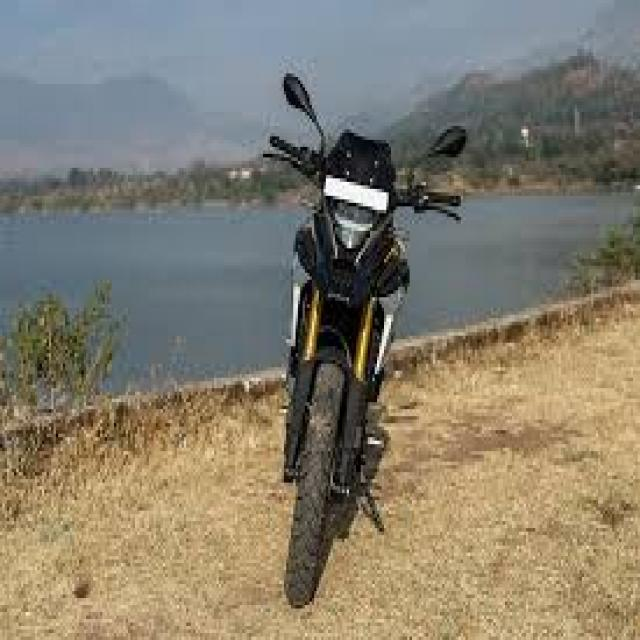Bike: (264, 70, 468, 608)
